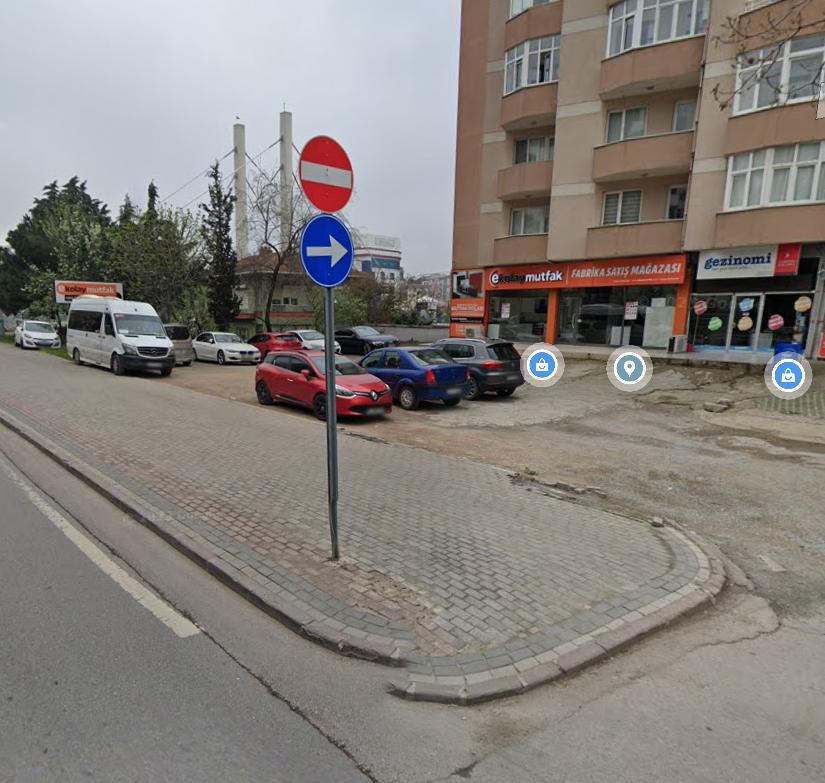turnright: (301, 212, 352, 285)
